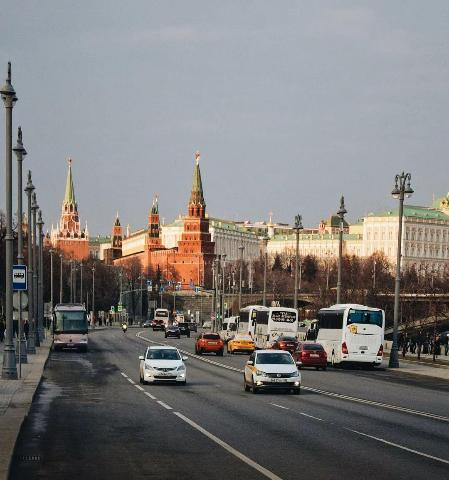bus: (310, 303, 390, 372), (250, 307, 302, 355), (48, 300, 90, 357)
car: (243, 348, 304, 393), (137, 342, 189, 382), (293, 340, 329, 368), (195, 331, 225, 356), (226, 331, 256, 354), (273, 333, 299, 353), (166, 326, 182, 338), (177, 323, 191, 336), (152, 319, 166, 331), (187, 322, 197, 332), (142, 320, 153, 328), (203, 321, 211, 329)
